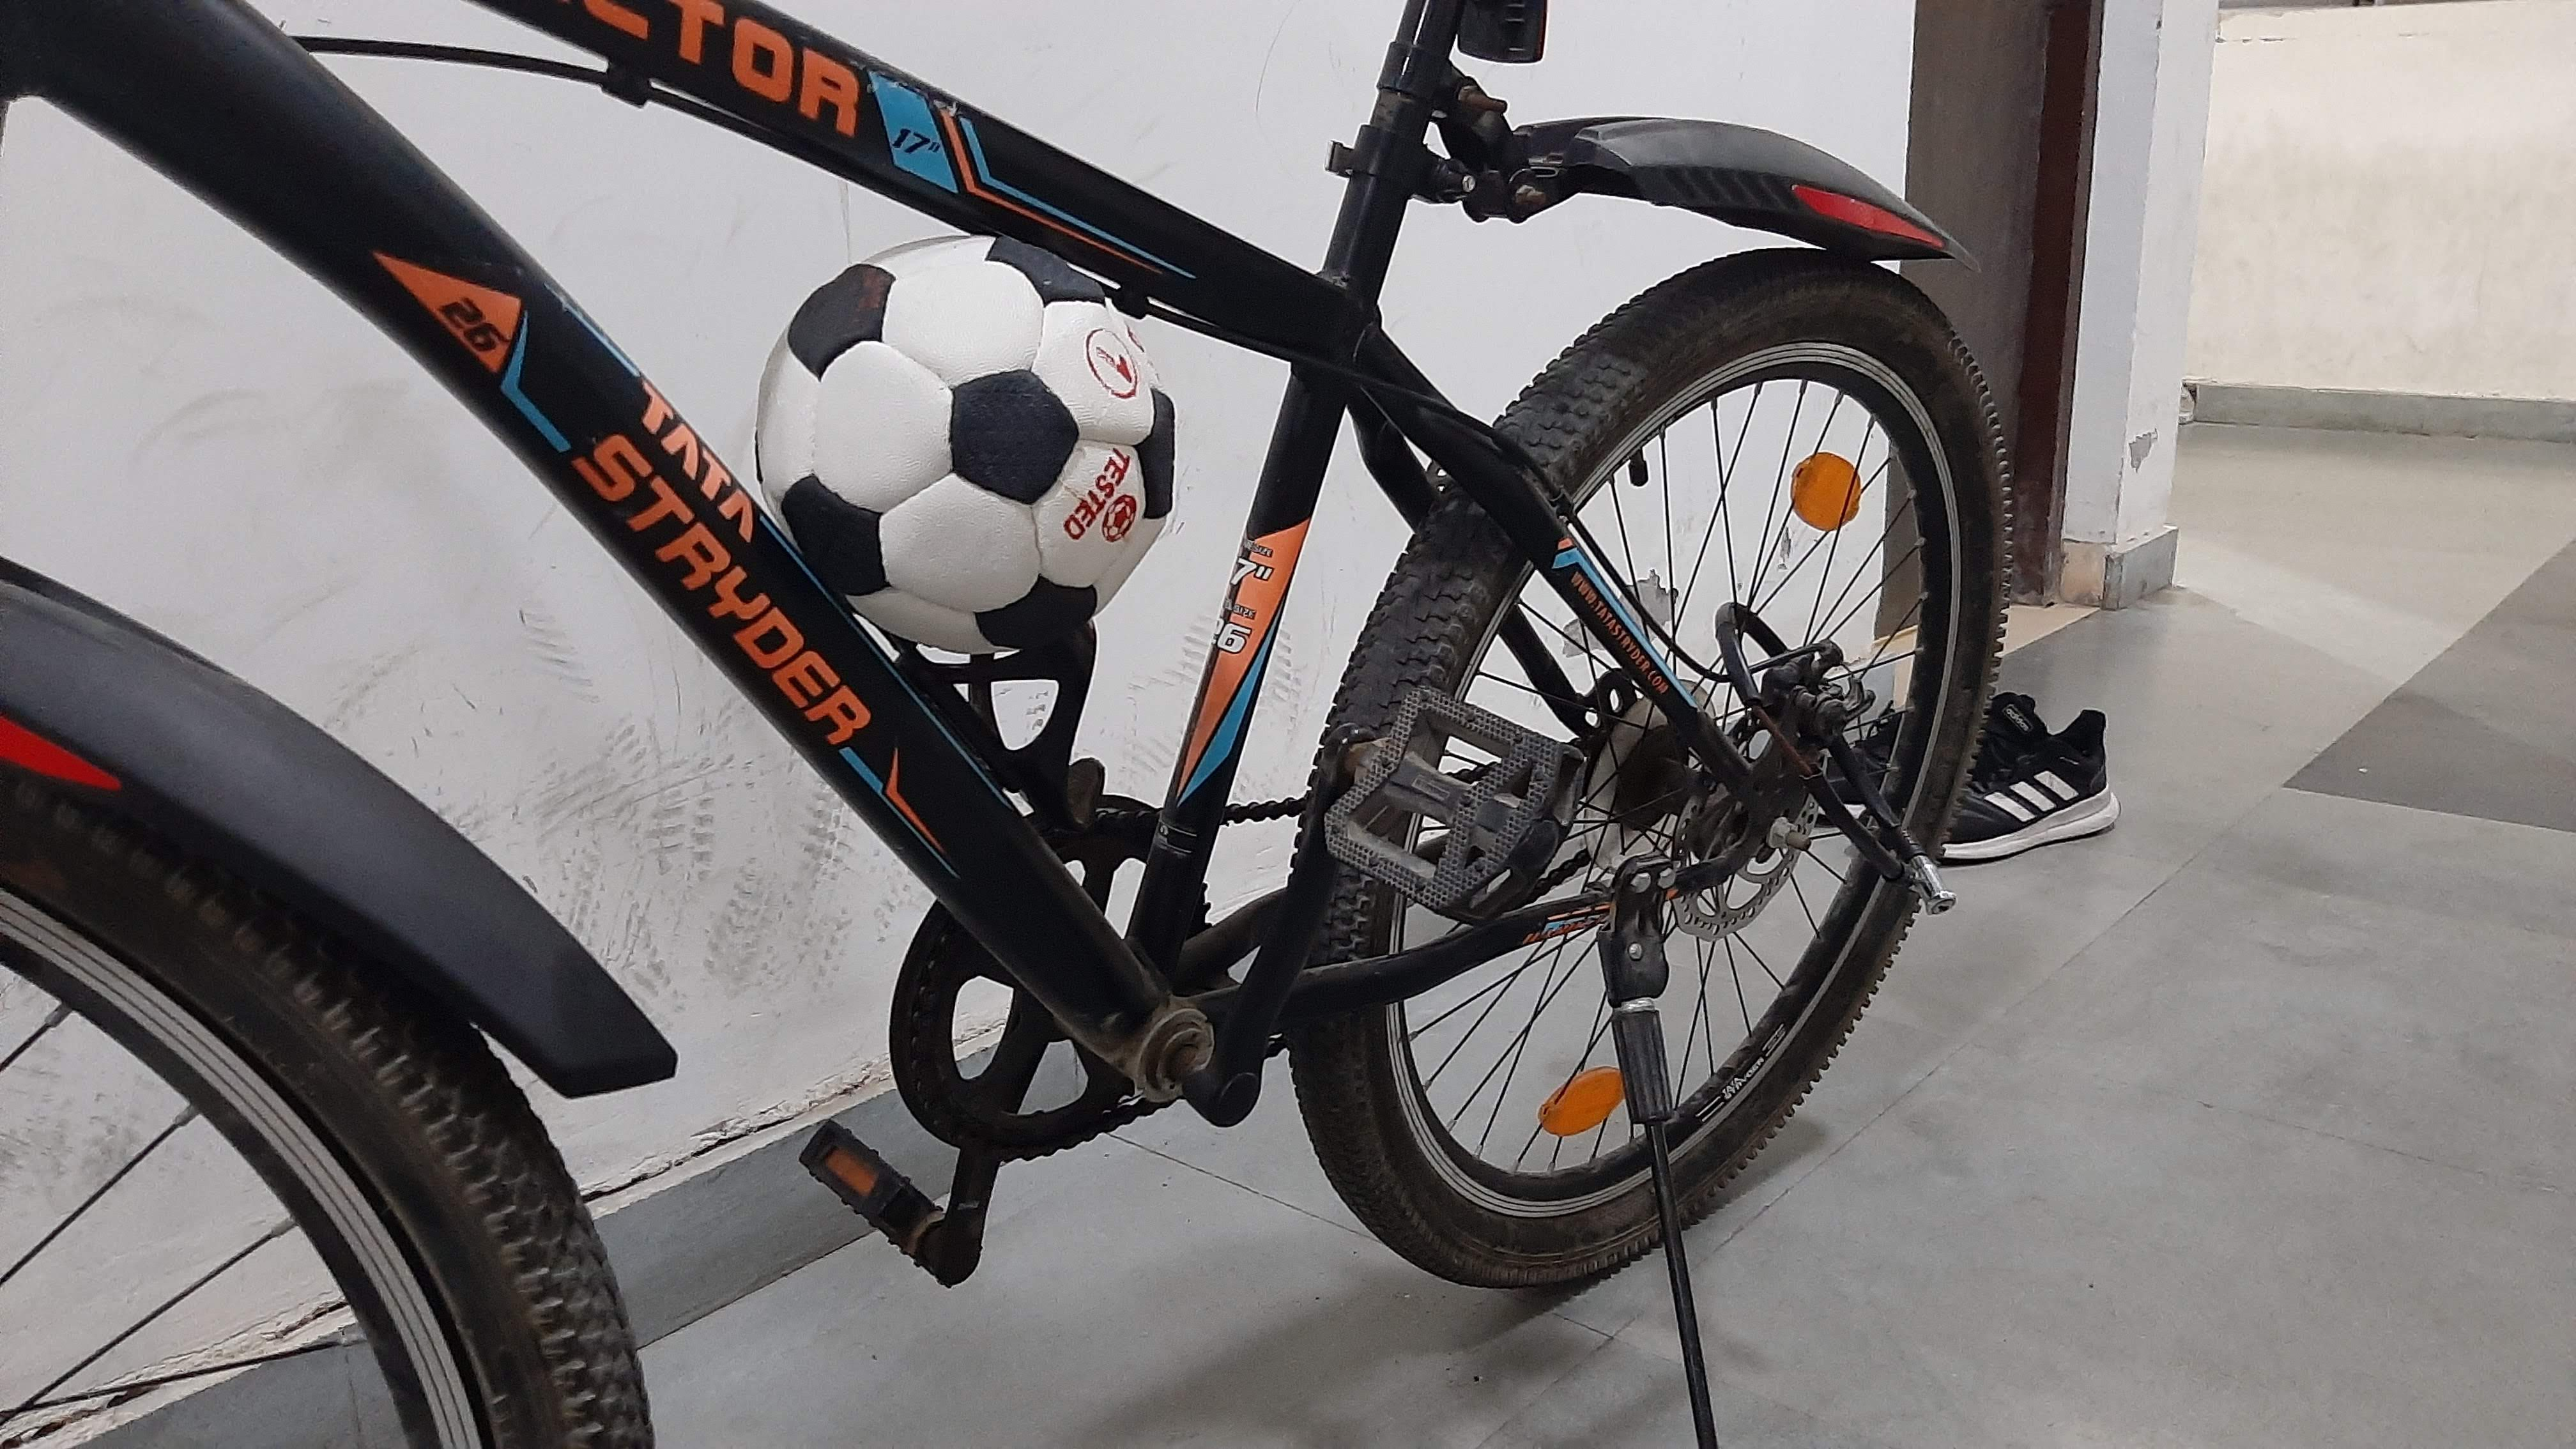soccer_ball: (755, 235, 1173, 653)
